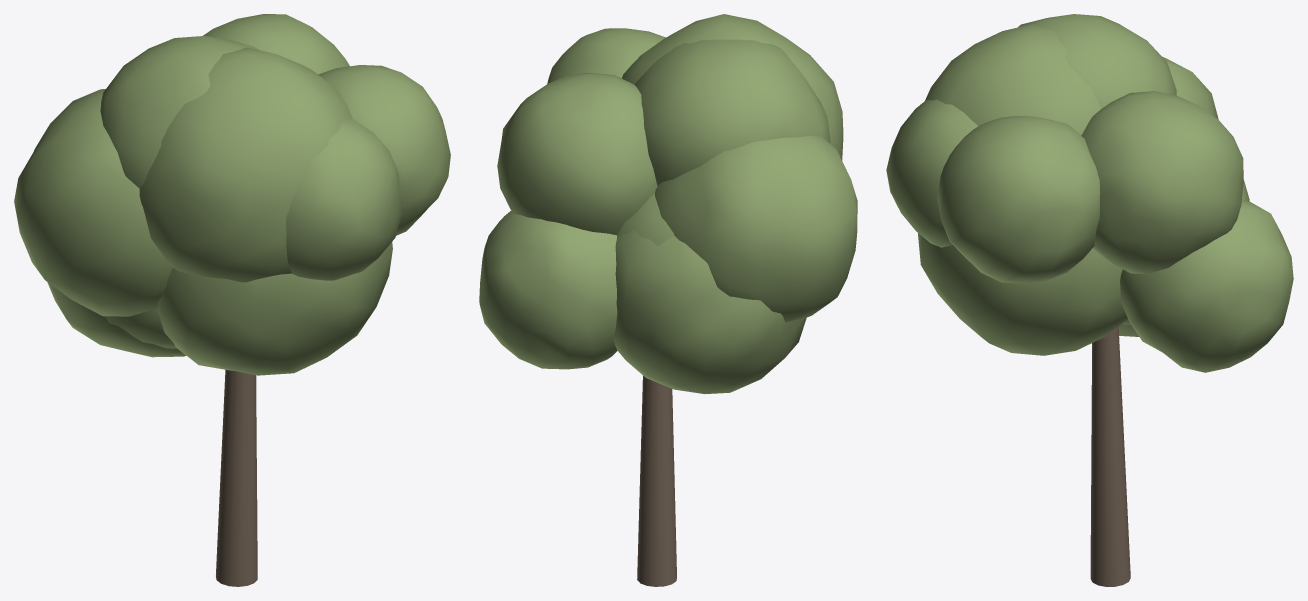
Rendered from NPR_07_0031__MOD__VegetationElements__Trees__FieldMaple__Var-01__.glb.
3 views of the same model, side by side, from view 1: azimuth 30°, elevation 25°; view 2: azimuth 150°, elevation 25°; view 3: azimuth 270°, elevation 25° (orthographic). The views are drawn at different scales.
Visible parts, largest first — view 1: NPR_07_0031__MOD__VegetationElements__Trees__FieldMaple__Var; view 2: NPR_07_0031__MOD__VegetationElements__Trees__FieldMaple__Var; view 3: NPR_07_0031__MOD__VegetationElements__Trees__FieldMaple__Var.
Part boxes in pixels (<box>): NPR_07_0031__MOD__VegetationElements__Trees__FieldMaple__Var: <box>14,14,450,586</box>; NPR_07_0031__MOD__VegetationElements__Trees__FieldMaple__Var: <box>479,14,857,586</box>; NPR_07_0031__MOD__VegetationElements__Trees__FieldMaple__Var: <box>886,14,1293,586</box>.
Bounding box in the file's own units: 3.7 × 5.57 × 3.86.
